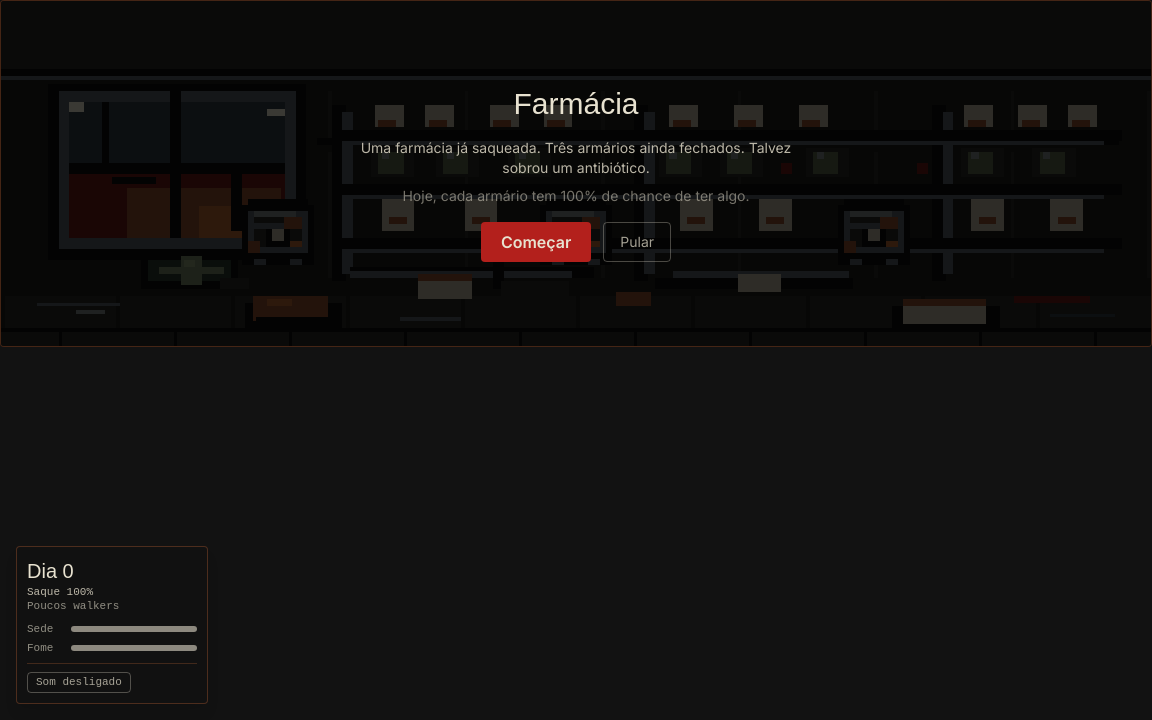
Test: LootGame › opens each cabinet once and keeps what it finds
This screenshot has width=1152, height=720.
Click the button "Começar".
click(536, 242)  # box [481,222,591,262]
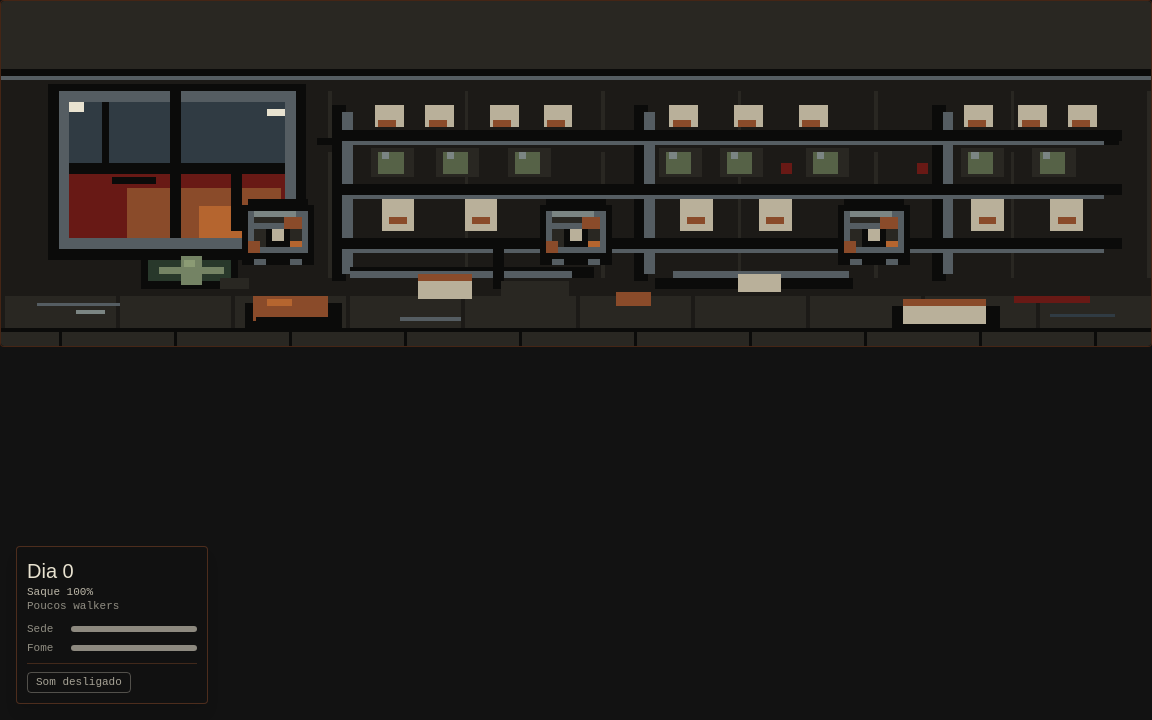
Click the button named "Abrir armário 1".
click(278, 229)  # box [162,181,394,277]
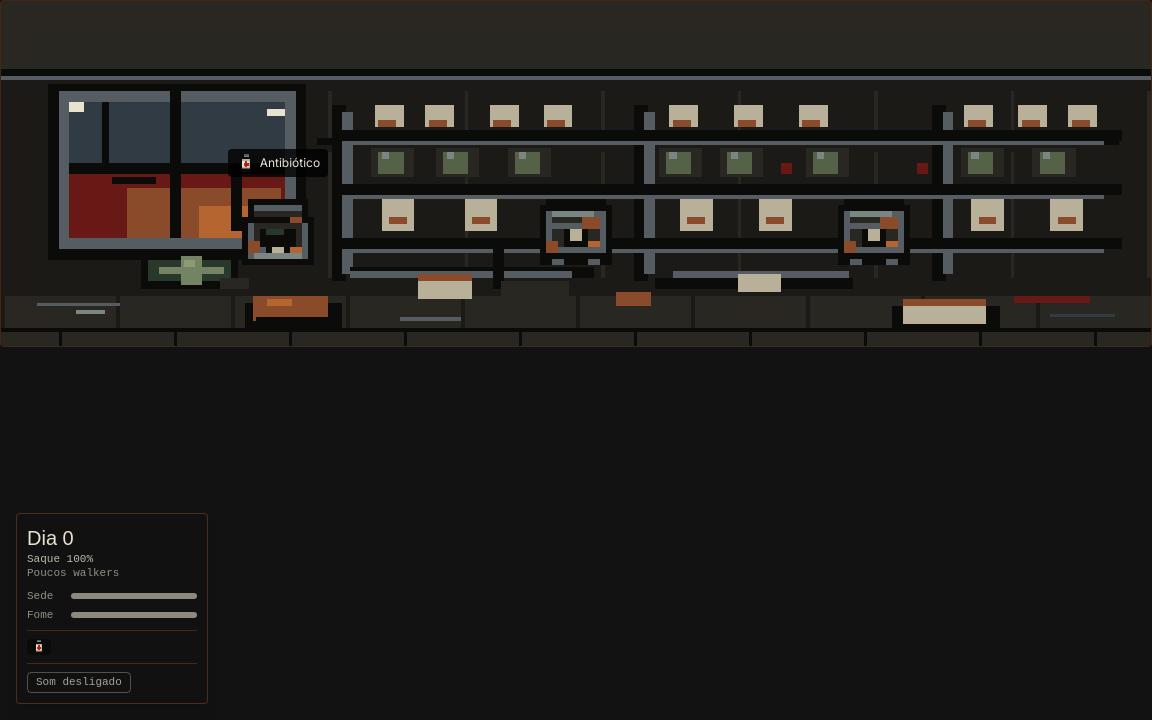
Now the button "Antibiótico" is disabled, box [162,181,394,277]
Now the text "Antibiótico" is shown, box [228,149,328,177]
